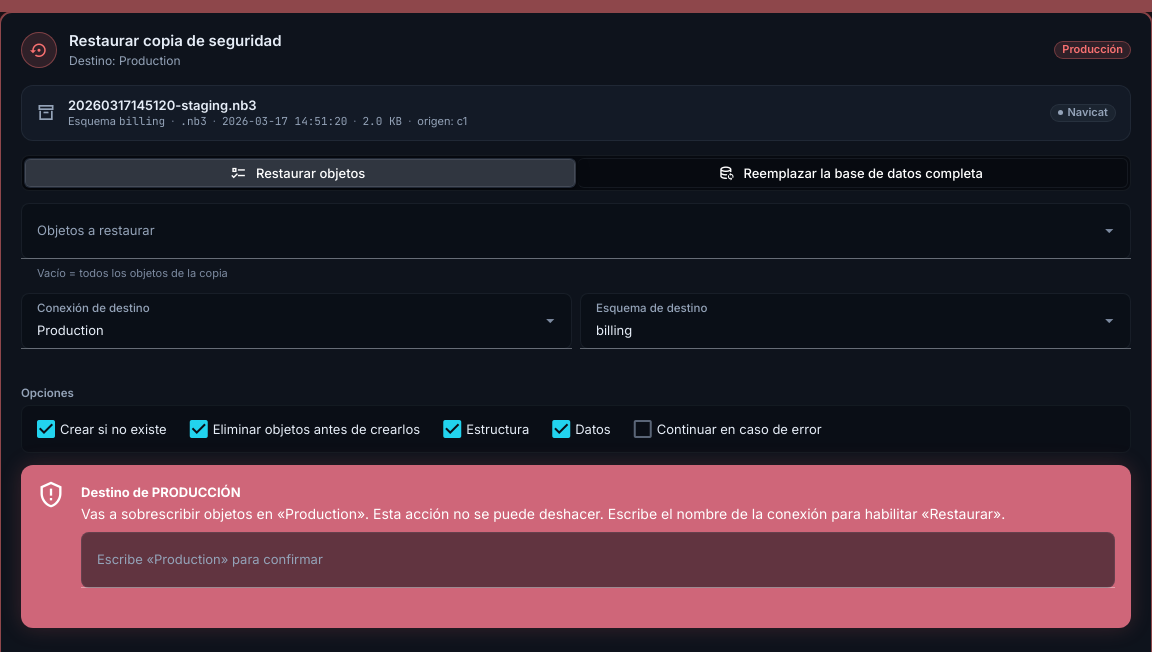
Test: RestoreDialog › a guarded target in «Solo estructura» states it next to the typed name
The width and height of the screenshot is (1152, 652).
Click the button with test id "restore-mode-replace": (853, 173) [578,158,1128,188]
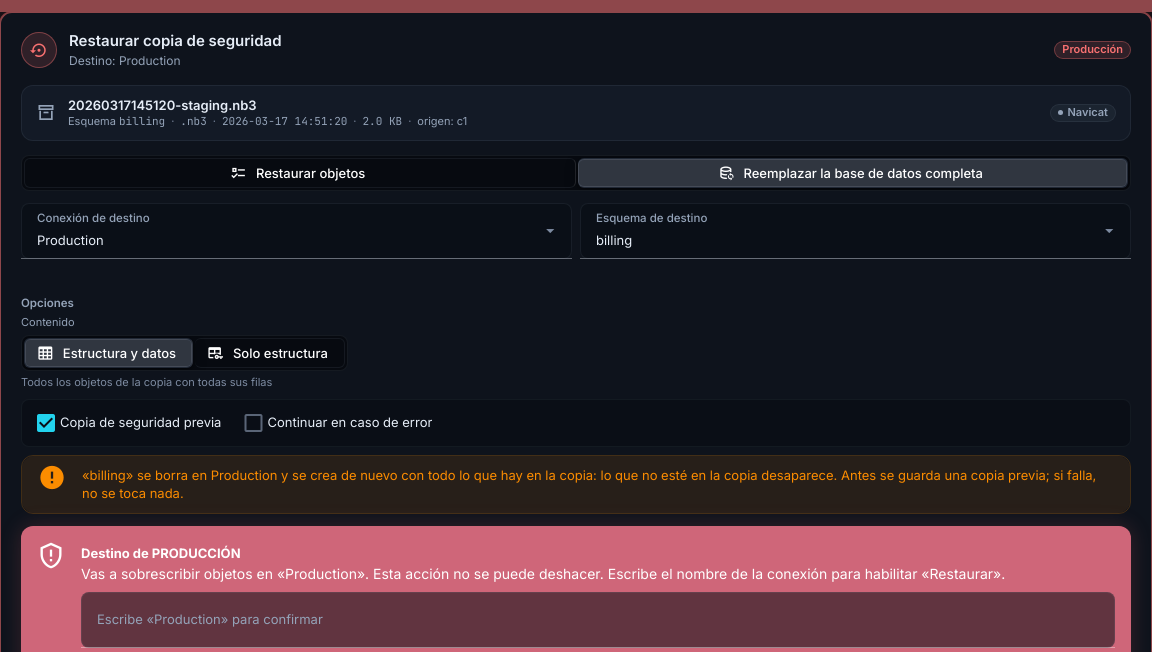
Click the button with test id "replace-content-structure": (270, 353) [195,338,345,368]
(page scrolled)
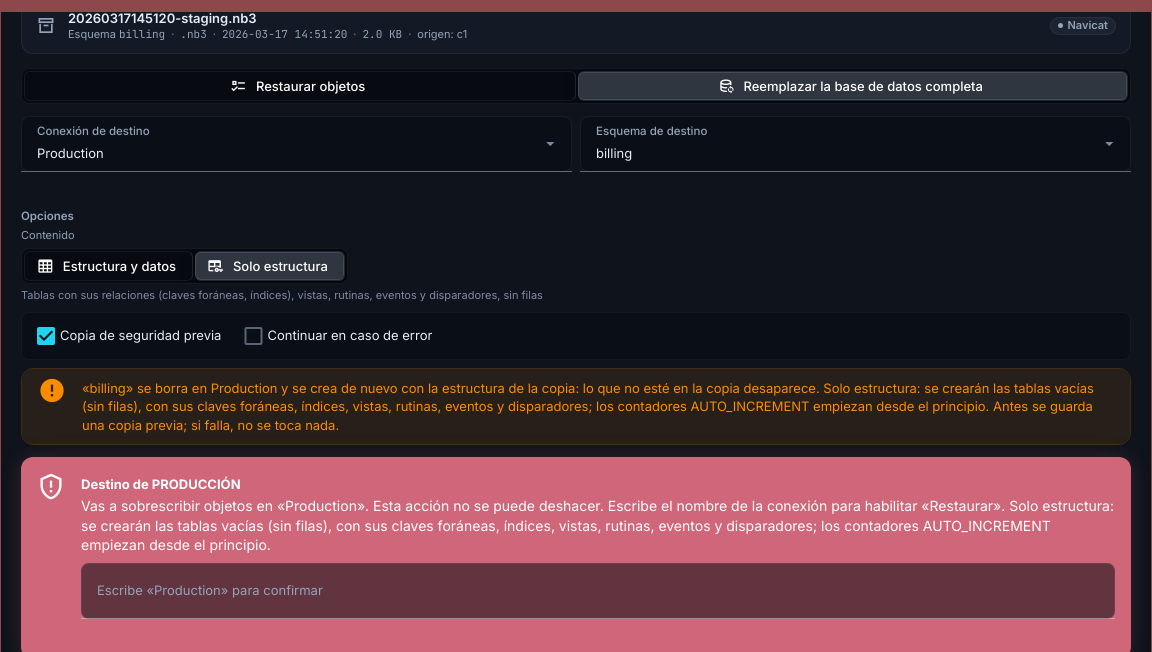
Result: the message with test id "restore-production-warning" shows "se crearán las tablas vacías" at [81,497,1114,554]
